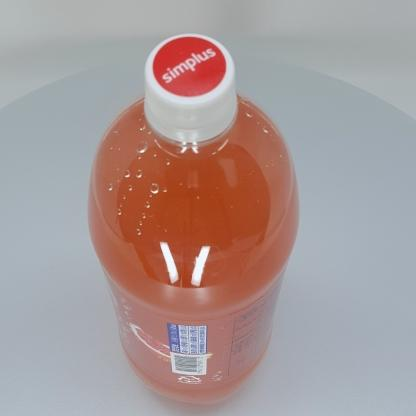--------------: (87, 33, 300, 406)
